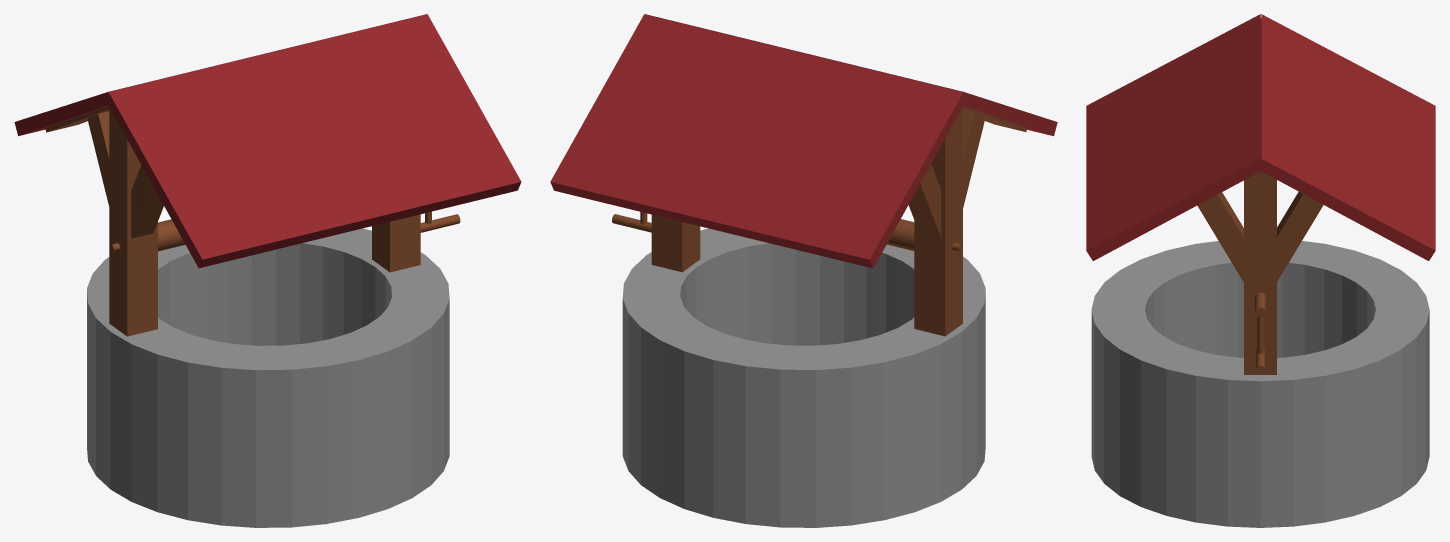
The model's file is Well.fbx.
The picture shows the model from 3 angles, left to right: view 1: azimuth 30°, elevation 25°; view 2: azimuth 150°, elevation 25°; view 3: azimuth 270°, elevation 25°; orthographic projection. The views are drawn at different scales.
Parts seen in each view (by area): view 1: Circle, Cube.008, Cube.001, Cube, Cube.009, Cube.003, Cube.004, Cylinder; view 2: Circle, Cube.009, Cube.001, Cube, Cube.008, Cube.004, Cube.003, Cylinder; view 3: Circle, Cube.009, Cube.008, Cube, Cube.002, Cube.005.
Boxes of the visible parts, left/top/right/bottom form: Circle: left=87, top=228, right=449, bottom=527; Cube.008: left=108, top=14, right=521, bottom=268; Cube.001: left=109, top=111, right=157, bottom=336; Cube: left=372, top=214, right=420, bottom=272; Cube.009: left=14, top=14, right=426, bottom=136; Cube.003: left=131, top=165, right=163, bottom=238; Cube.004: left=87, top=111, right=109, bottom=206; Cylinder: left=110, top=219, right=185, bottom=251; Circle: left=622, top=228, right=985, bottom=527; Cube.009: left=550, top=14, right=963, bottom=268; Cube.001: left=914, top=110, right=962, bottom=336; Cube: left=651, top=214, right=700, bottom=272; Cube.008: left=645, top=14, right=1057, bottom=136; Cube.004: left=908, top=164, right=941, bottom=237; Cube.003: left=963, top=111, right=985, bottom=207; Cylinder: left=887, top=219, right=962, bottom=251; Circle: left=1091, top=241, right=1429, bottom=527; Cube.009: left=1260, top=14, right=1435, bottom=261; Cube.008: left=1086, top=14, right=1260, bottom=261; Cube: left=1244, top=175, right=1276, bottom=374; Cube.002: left=1197, top=192, right=1243, bottom=282; Cube.005: left=1277, top=192, right=1323, bottom=281.
Bounding box in the file's own units: 177 × 193 × 165.
